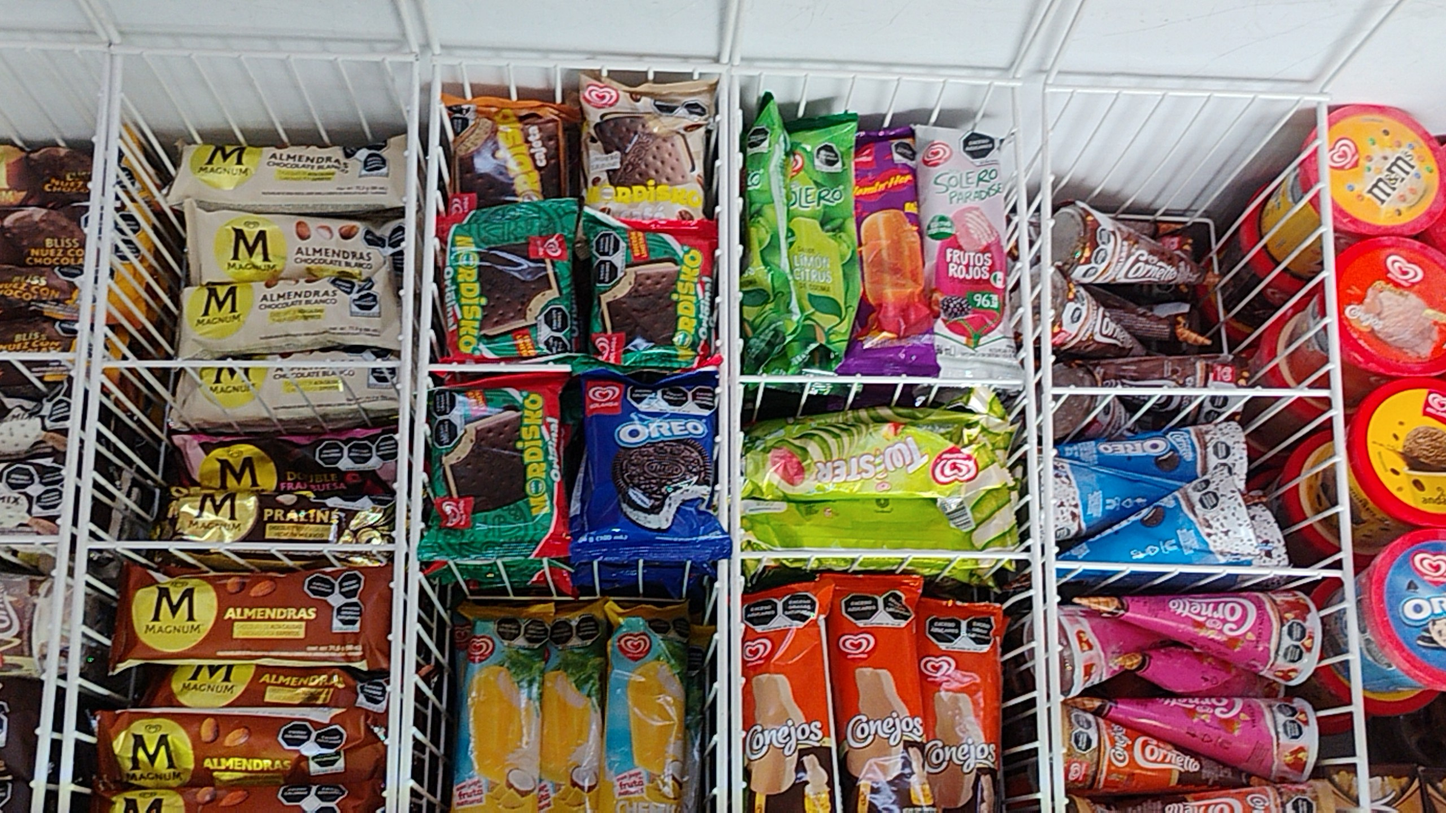Oreo Mordizco: (583, 372, 724, 558)
